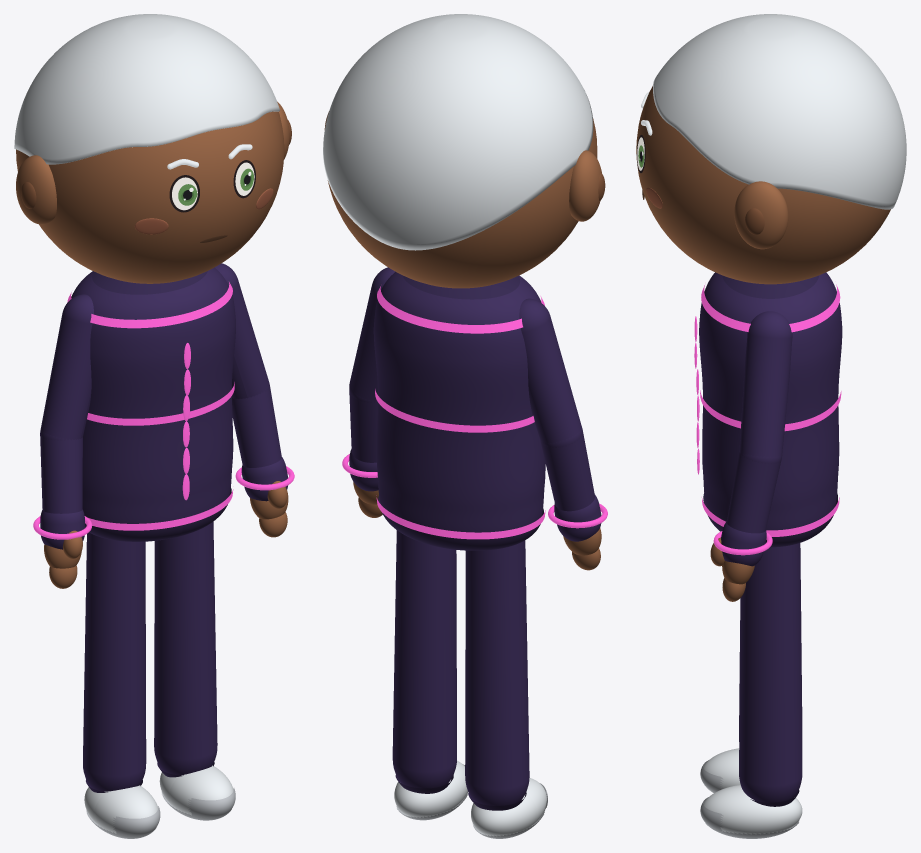
Rendered from toekomst_a.glb.
The picture shows the model from 3 angles, left to right: view 1: azimuth 30°, elevation 25°; view 2: azimuth 150°, elevation 25°; view 3: azimuth 270°, elevation 25°; orthographic projection.
Visible parts, largest first — view 1: toekomst_a_romp, toekomst_a_haar, toekomst_a_hoofd, toekomst_a_been_R, toekomst_a_been_L, toekomst_a_bovenarm_R, toekomst_a_onderarm_R, toekomst_a_onderarm_L, toekomst_a_bovenarm_L, toekomst_a_schoen_R, toekomst_a_schoen_L, toekomst_a_oor_R (+10 smaller); view 2: toekomst_a_haar, toekomst_a_romp, toekomst_a_been_R, toekomst_a_been_L, toekomst_a_hoofd, toekomst_a_bovenarm_R, toekomst_a_onderarm_R, toekomst_a_schoen_R, toekomst_a_bovenarm_L, toekomst_a_schoen_L, toekomst_a_oor_R, toekomst_a_onderarm_L (+8 smaller); view 3: toekomst_a_haar, toekomst_a_romp, toekomst_a_hoofd, toekomst_a_been_L, toekomst_a_bovenarm_L, toekomst_a_onderarm_L, toekomst_a_schoen_L, toekomst_a_oor_L, toekomst_a_romp_halsboord, toekomst_a_manchet_L, toekomst_a_gloei_band2, toekomst_a_schoen_R (+4 smaller).
Part boxes in pixels (x1,y1,x2,y2): toekomst_a_romp: [71, 267, 235, 523]; toekomst_a_haar: [14, 14, 279, 164]; toekomst_a_hoofd: [16, 111, 284, 283]; toekomst_a_been_R: [83, 532, 146, 791]; toekomst_a_been_L: [154, 521, 217, 775]; toekomst_a_bovenarm_R: [40, 294, 93, 440]; toekomst_a_onderarm_R: [40, 432, 82, 513]; toekomst_a_onderarm_L: [232, 387, 281, 467]; toekomst_a_bovenarm_L: [215, 263, 268, 398]; toekomst_a_schoen_R: [84, 785, 158, 833]; toekomst_a_schoen_L: [159, 765, 233, 815]; toekomst_a_oor_R: [16, 155, 56, 224]; toekomst_a_haar: [323, 14, 593, 250]; toekomst_a_romp: [373, 271, 545, 532]; toekomst_a_been_R: [465, 540, 529, 805]; toekomst_a_been_L: [392, 530, 456, 788]; toekomst_a_hoofd: [327, 118, 597, 288]; toekomst_a_bovenarm_R: [519, 298, 581, 446]; toekomst_a_onderarm_R: [540, 432, 594, 511]; toekomst_a_schoen_R: [471, 778, 546, 836]; toekomst_a_bovenarm_L: [349, 267, 395, 401]; toekomst_a_schoen_L: [394, 760, 467, 817]; toekomst_a_oor_R: [569, 150, 601, 221]; toekomst_a_onderarm_L: [349, 386, 377, 462]; toekomst_a_haar: [653, 14, 906, 209]; toekomst_a_romp: [699, 272, 842, 530]; toekomst_a_hoofd: [636, 86, 890, 284]; toekomst_a_been_L: [739, 543, 802, 802]; toekomst_a_bovenarm_L: [739, 311, 792, 463]; toekomst_a_onderarm_L: [726, 452, 781, 533]; toekomst_a_schoen_L: [703, 785, 802, 834]; toekomst_a_oor_L: [734, 181, 788, 249]; toekomst_a_romp_halsboord: [722, 275, 819, 298]; toekomst_a_manchet_L: [721, 522, 766, 566]; toekomst_a_gloei_band2: [701, 284, 840, 332]; toekomst_a_schoen_R: [703, 748, 740, 789].
Size of the model in its own units: 0.6336 by 1.79 by 0.5552.
